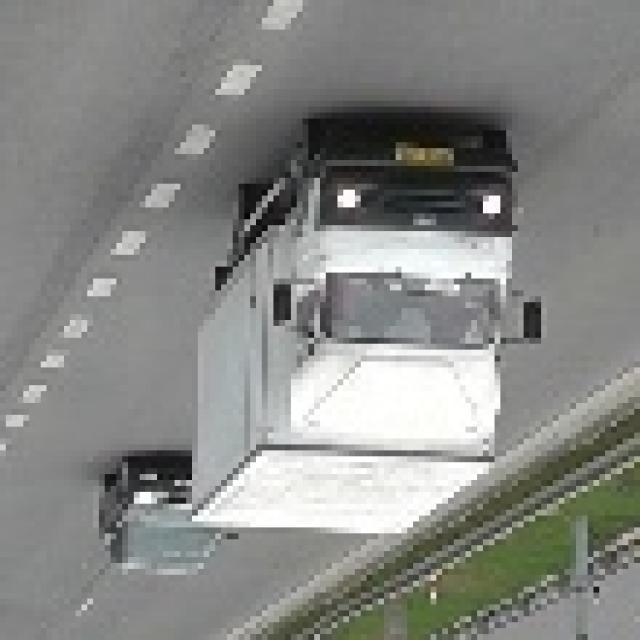Truck: (192, 130, 553, 550)
